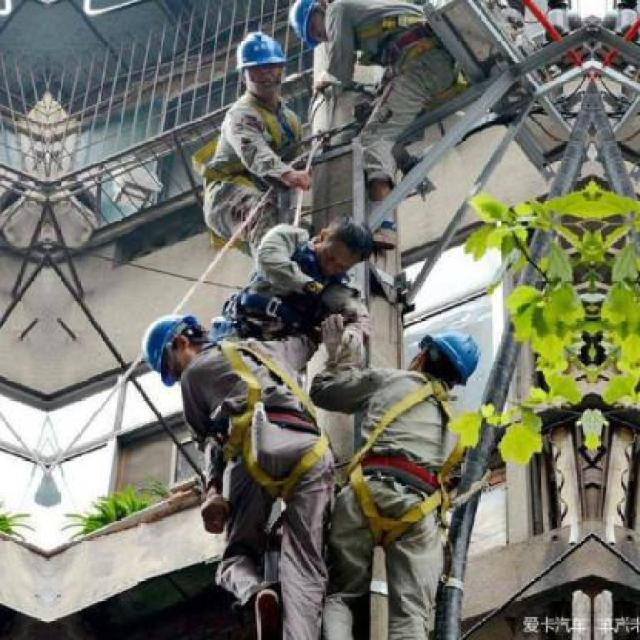helmet: (401, 328, 479, 392), (133, 316, 204, 382), (230, 28, 287, 102), (281, 2, 344, 47)
